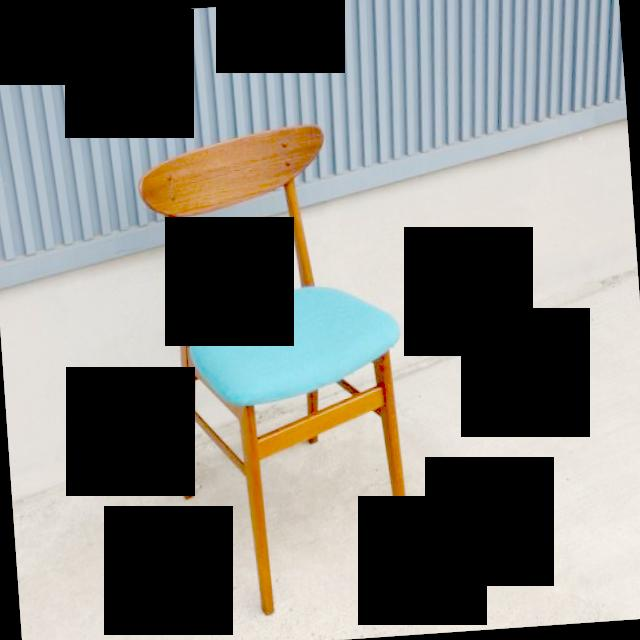chair vintage: (132, 115, 426, 624)
